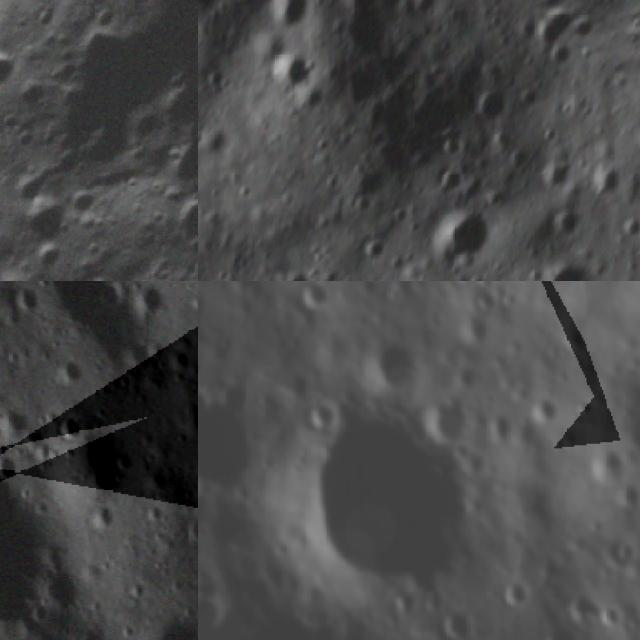crater: (36, 0, 198, 222), (294, 405, 482, 586), (198, 374, 269, 497), (420, 188, 510, 279), (7, 185, 91, 269), (261, 30, 333, 102), (602, 378, 640, 490), (245, 0, 336, 45), (529, 147, 591, 207), (359, 334, 422, 392), (534, 188, 593, 248), (467, 78, 523, 136), (574, 146, 630, 201), (0, 561, 46, 622), (425, 394, 477, 446), (198, 559, 231, 640), (537, 242, 603, 281), (0, 36, 27, 109), (266, 256, 326, 281), (529, 393, 564, 433), (302, 393, 340, 428), (439, 607, 479, 640), (584, 448, 620, 484), (459, 311, 494, 346), (537, 617, 588, 640), (0, 234, 21, 281), (48, 408, 83, 436), (388, 587, 425, 613), (488, 410, 516, 444), (298, 281, 331, 309), (0, 450, 18, 482), (409, 625, 446, 640), (439, 281, 479, 291), (0, 281, 13, 291)
